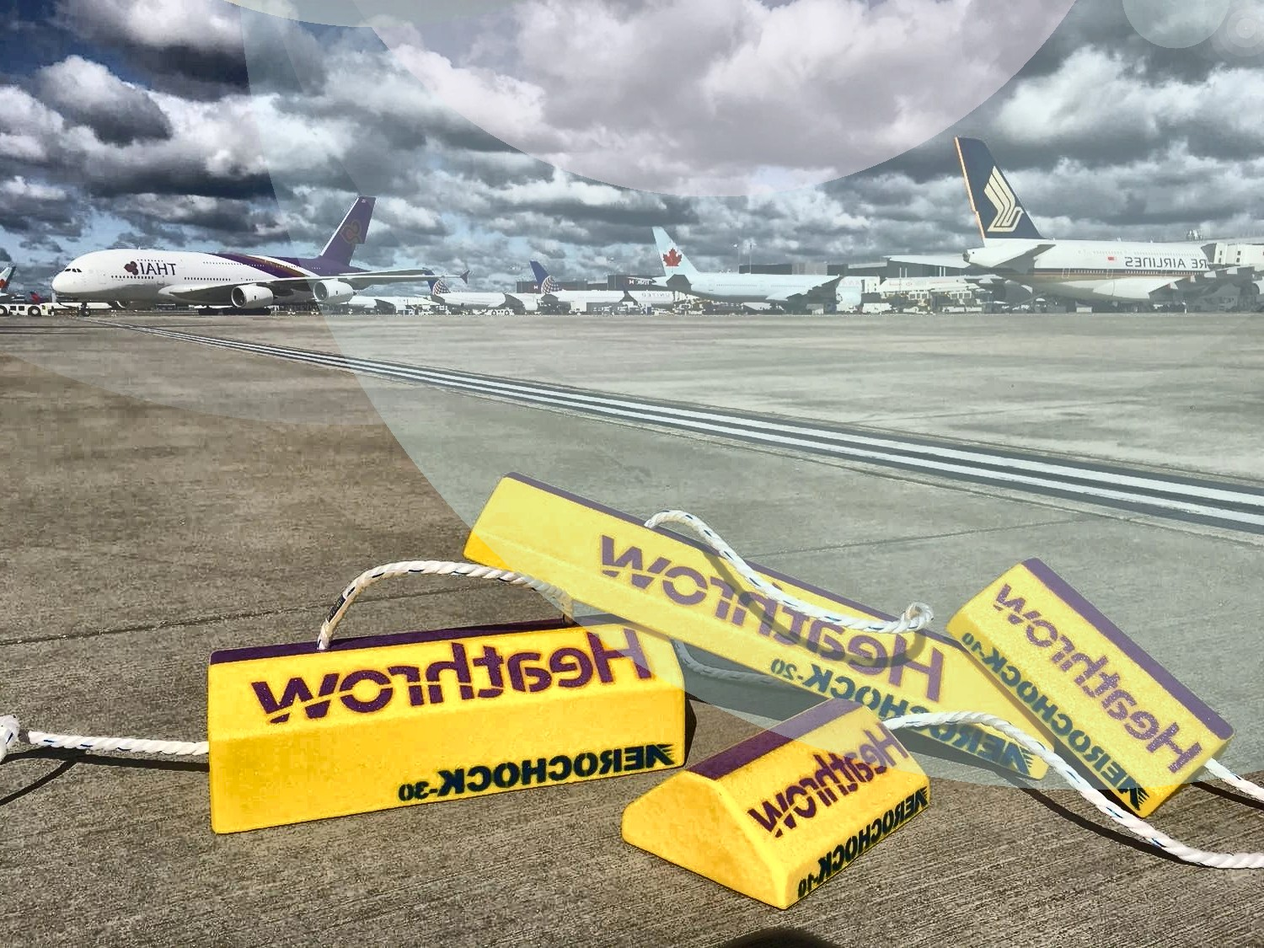chock: (462, 467, 1068, 780), (205, 601, 690, 835), (945, 550, 1241, 820), (620, 696, 933, 914)
